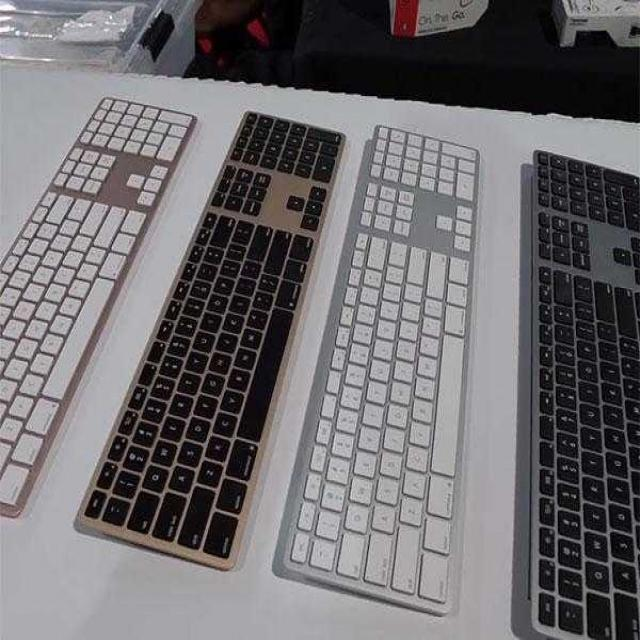keyboard: (73, 107, 346, 571), (278, 120, 481, 618)
